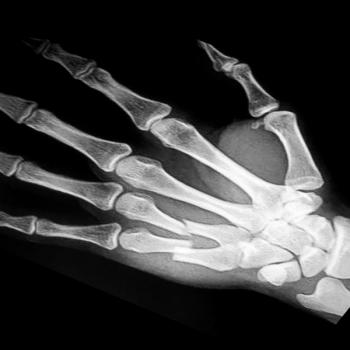Fracture: (160, 240, 199, 263), (174, 216, 202, 236)
